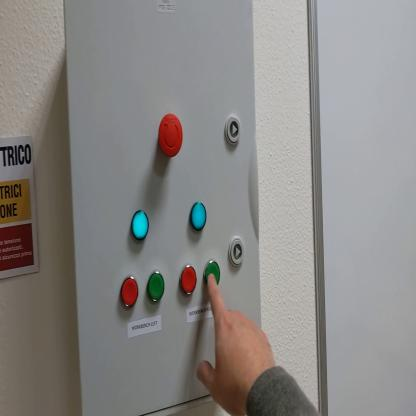hand: (198, 271, 277, 413)
left green button: (148, 273, 167, 303)
left red button: (120, 274, 141, 312)
right green button: (206, 259, 223, 292)
right red button: (181, 266, 198, 297)
